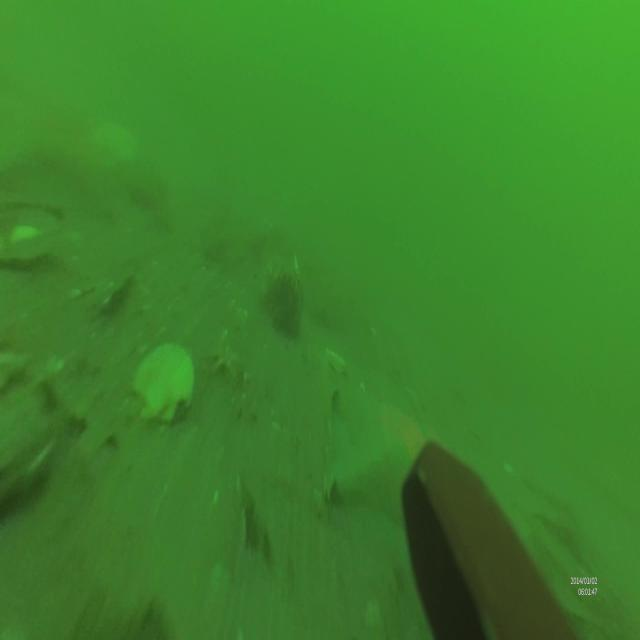scallop: (131, 343, 196, 422)
